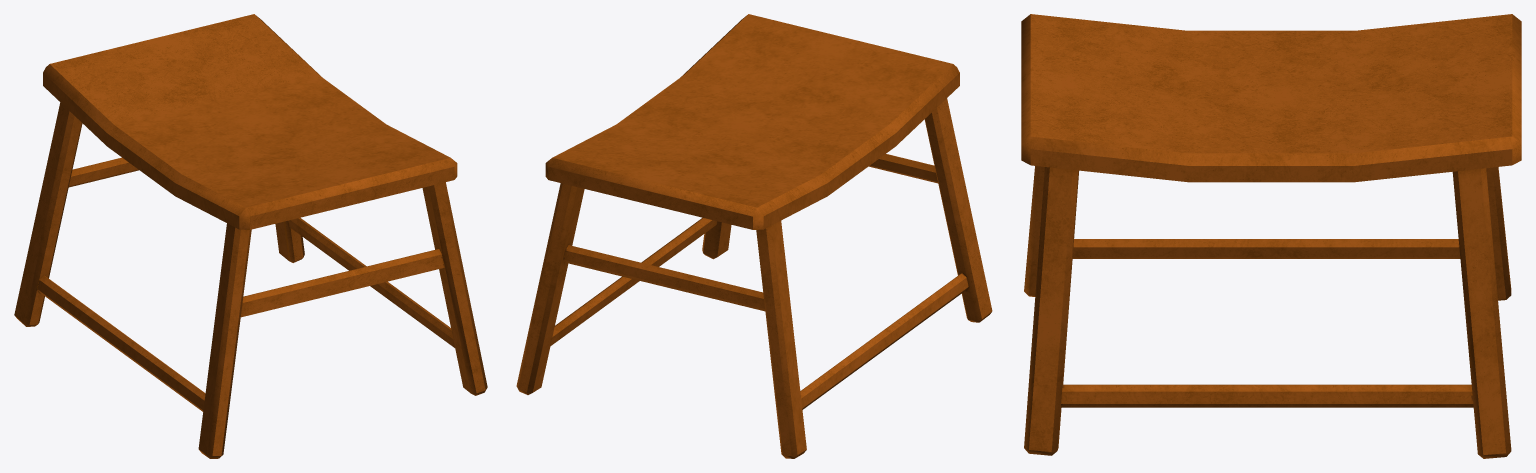
The model's file is wooden stool stylized.fbx.
3 views of the same model, side by side, from view 1: azimuth 30°, elevation 25°; view 2: azimuth 150°, elevation 25°; view 3: azimuth 270°, elevation 25° (orthographic). The views are drawn at different scales.
Parts seen in each view (by area): view 1: wooden_stool; view 2: wooden_stool; view 3: wooden_stool.
Part boxes in pixels (bbox=[...]): wooden_stool: bbox=[14, 14, 487, 458]; wooden_stool: bbox=[516, 14, 992, 458]; wooden_stool: bbox=[1021, 14, 1521, 458].
Size of the model in its own units: 84.9 by 71.06 by 106.
1 material, 1 textured.
